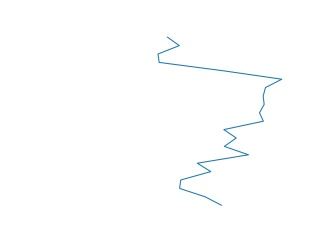floodPlain: (155, 34, 285, 209)
